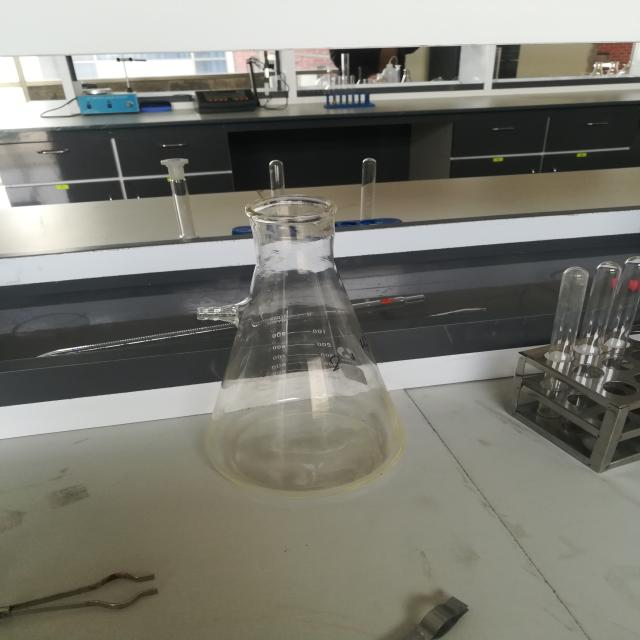Conical_Flask: (132, 157, 424, 516)
